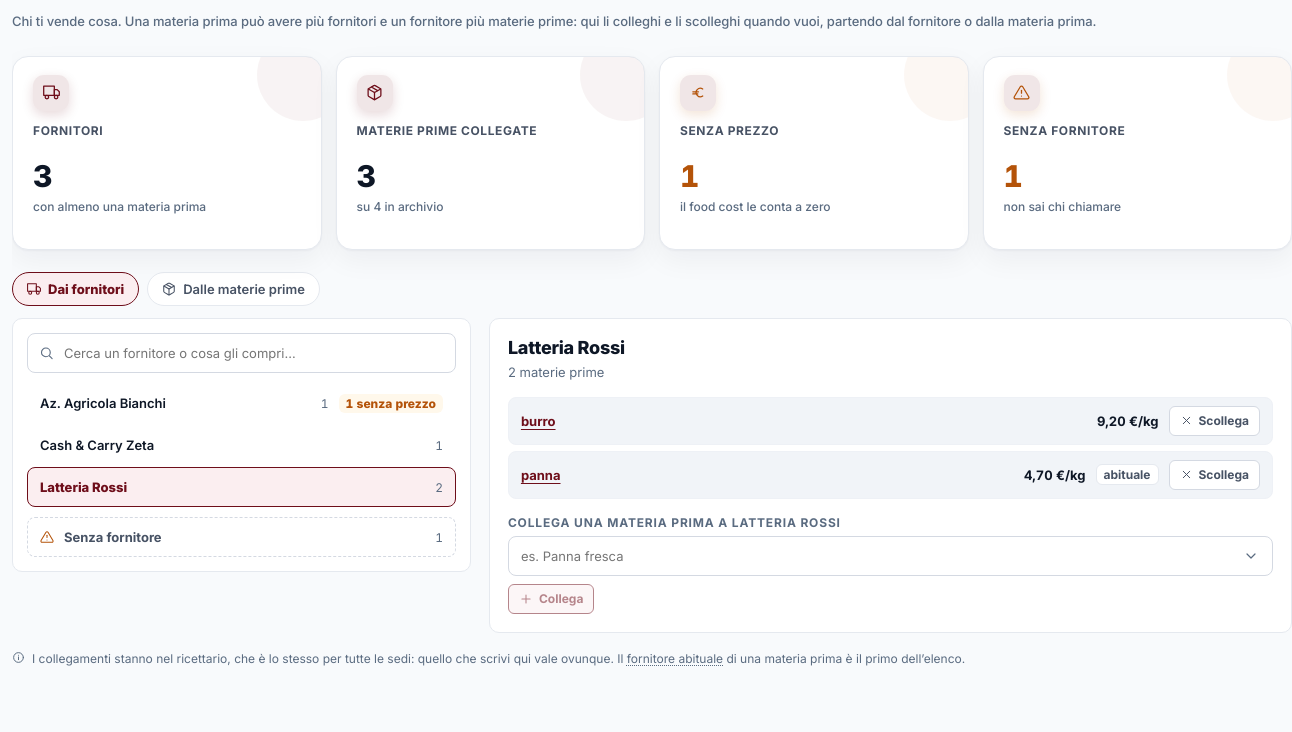
i due versi della stessa relazione › dal fornitore si salta alla materia prima e si resta su quella
// «o viceversa»: è la stessa riga di dati guardata dall'altro lato.
Click the button "burro": (538, 420) [521, 412, 1087, 428]
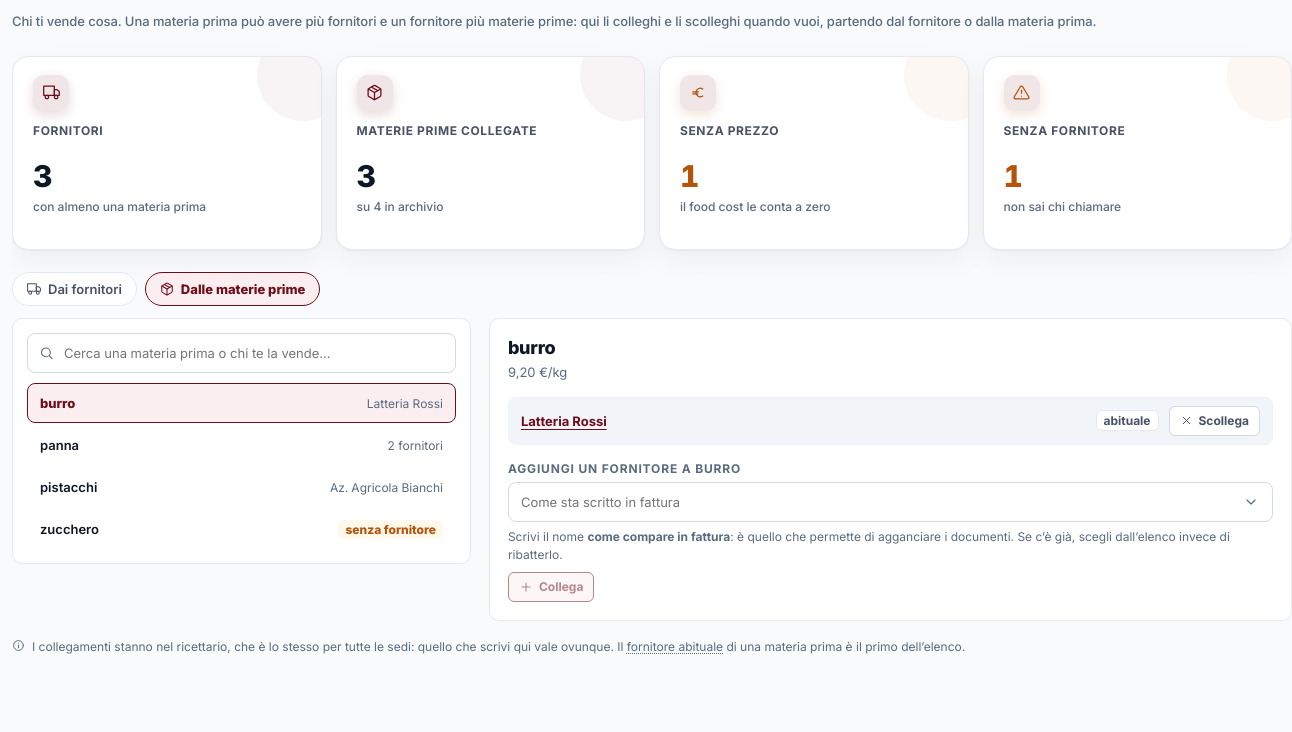
Expected: the heading "burro" is shown, [508, 337, 555, 358]
